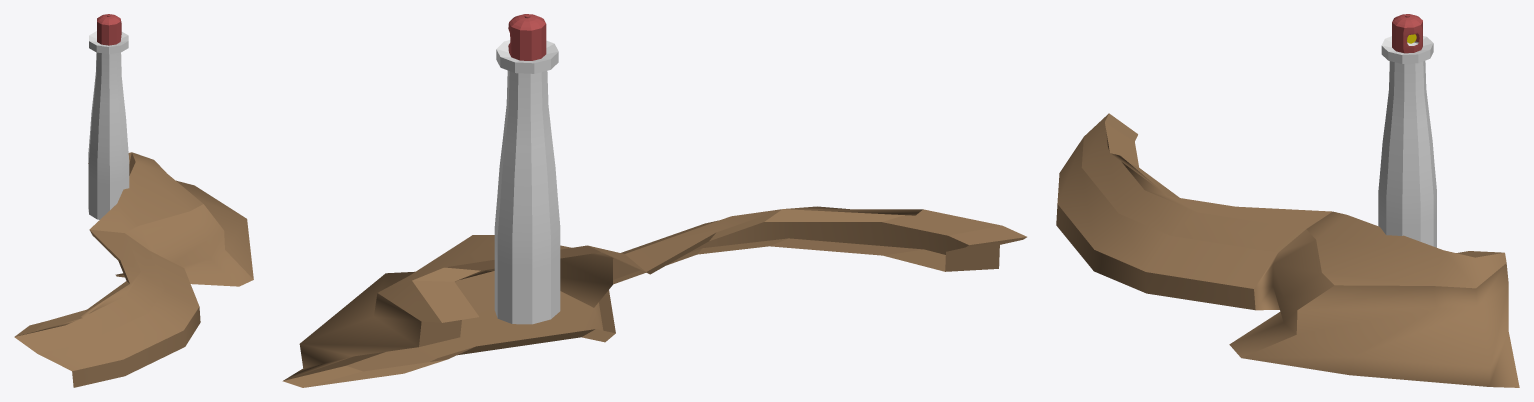
File: lighthouse.fbx
The picture shows the model from 3 angles, left to right: view 1: azimuth 30°, elevation 25°; view 2: azimuth 150°, elevation 25°; view 3: azimuth 270°, elevation 25°; orthographic projection. The views are drawn at different scales.
Parts seen in each view (by area): view 1: pCylinder3; view 2: pCylinder3; view 3: pCylinder3.
Part boxes in pixels (x1=…): pCylinder3: x1=14, y1=14, x2=253, y2=387; pCylinder3: x1=282, y1=14, x2=1026, y2=387; pCylinder3: x1=1056, y1=14, x2=1519, y2=387.
Size of the model in its own units: 35.46 by 24.59 by 34.16.
